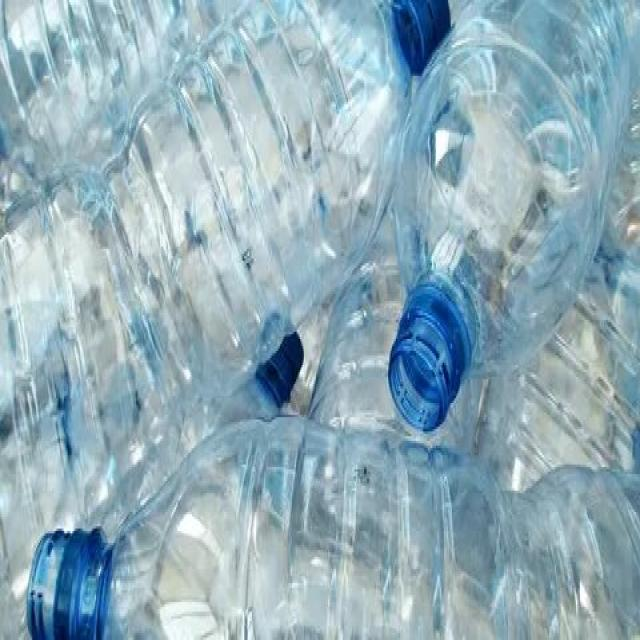blue: (24, 419, 640, 638), (391, 0, 640, 431)
